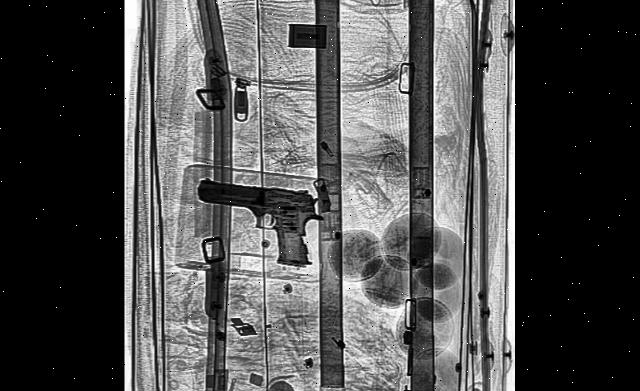Gun: (192, 166, 327, 271)
